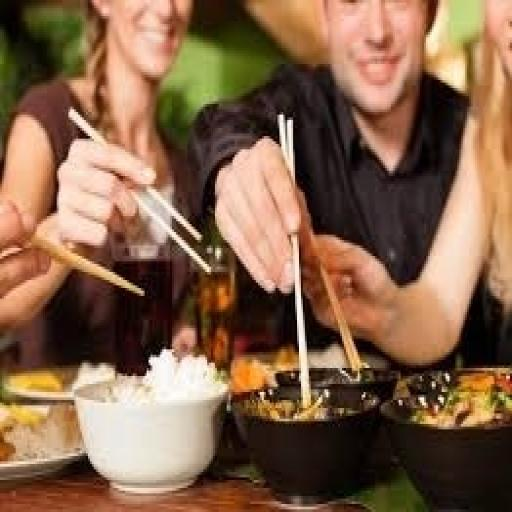eating: (0, 0, 201, 365)
